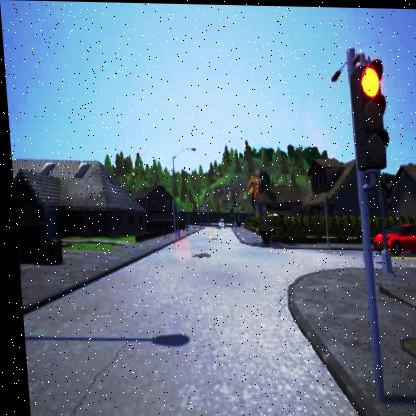vehicle: (368, 220, 416, 254)
